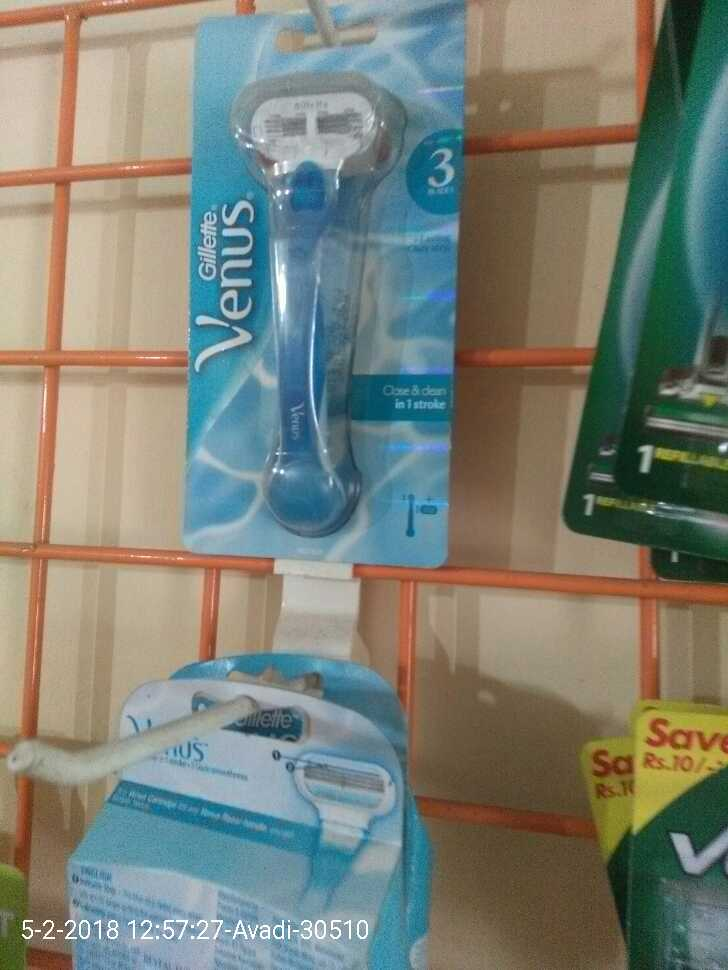gillette: (188, 15, 451, 572)
